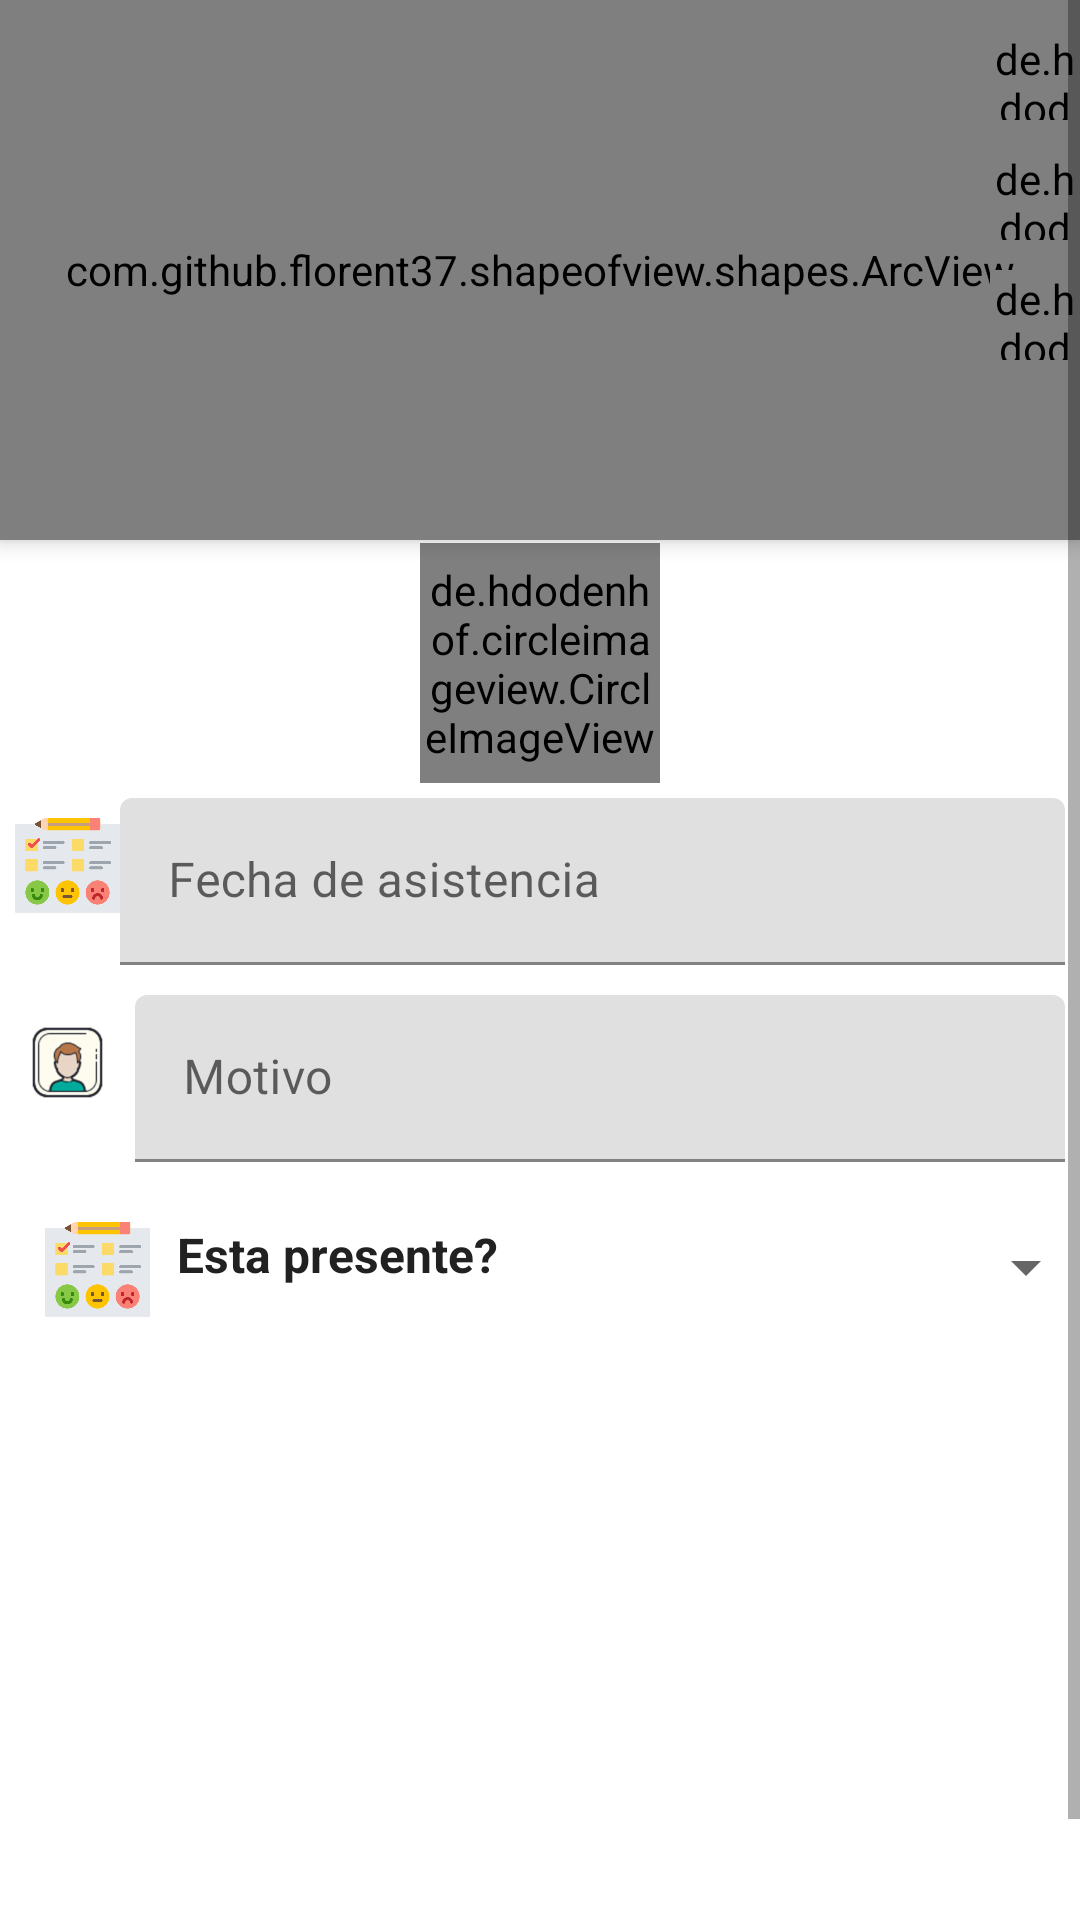

Screen size 1080*1920. Icon name, then its center in pixels as point (x, y):
satisfaccion: point (67, 865), point (97, 1269)
